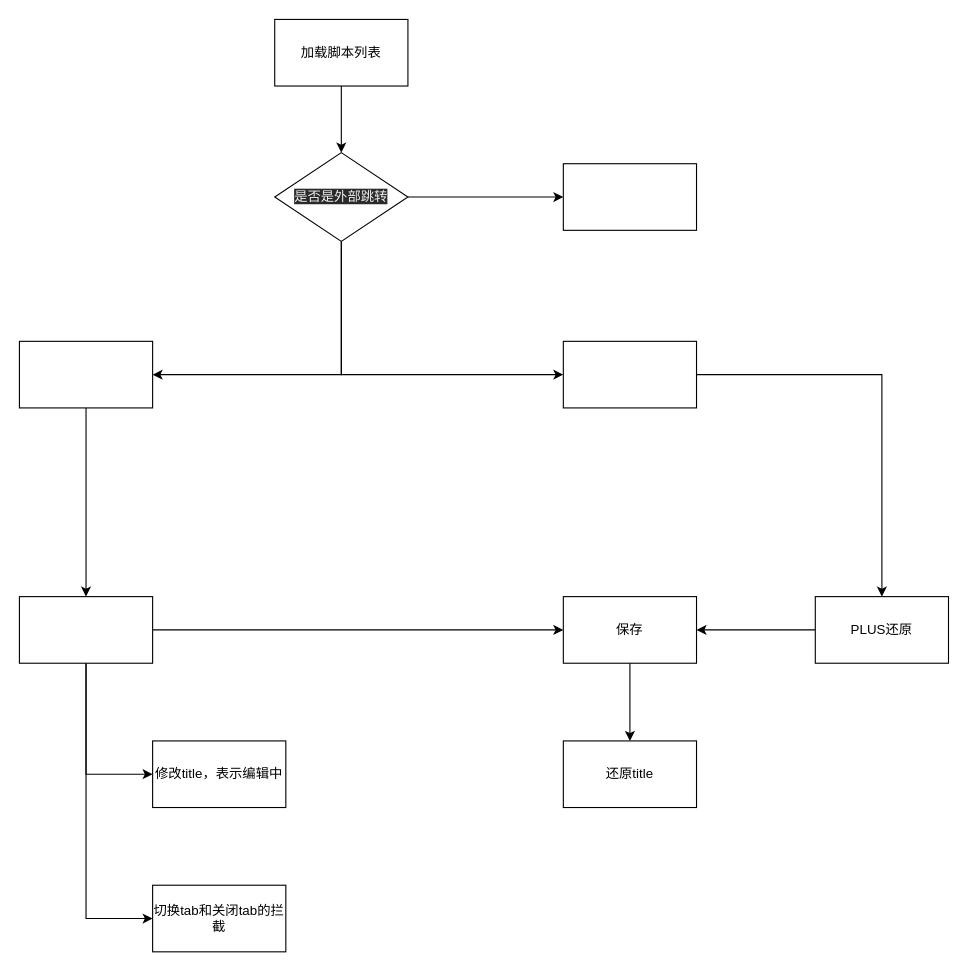
Image size: 968x971. Some labels were removed from this diagram. The centre of each missing label's shape, as x and y in pixels:
"新建脚本" belongs at point 629,374.
"新开tab并跳转" belongs at point 629,196.
"编辑脚本" belongs at point 85,374.
"脚本内容改变" belongs at point 85,629.
